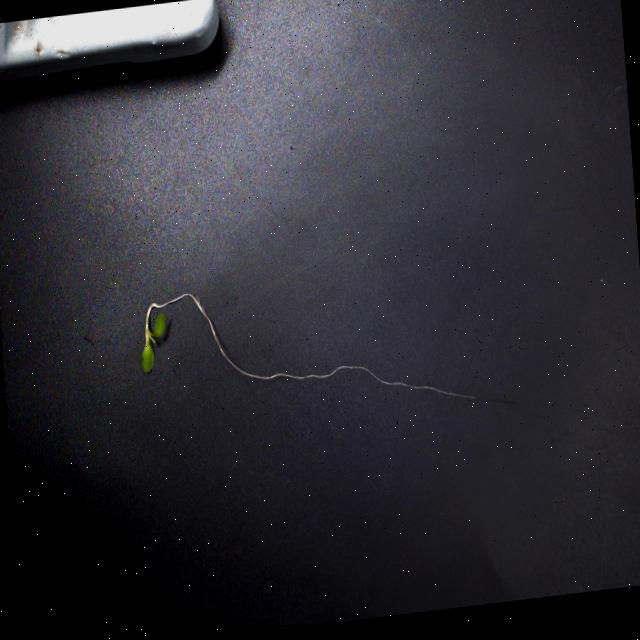leaf: (142, 343, 154, 373), (153, 313, 165, 337), (149, 334, 154, 342)
root: (153, 294, 478, 399)
stem: (144, 301, 151, 342)
